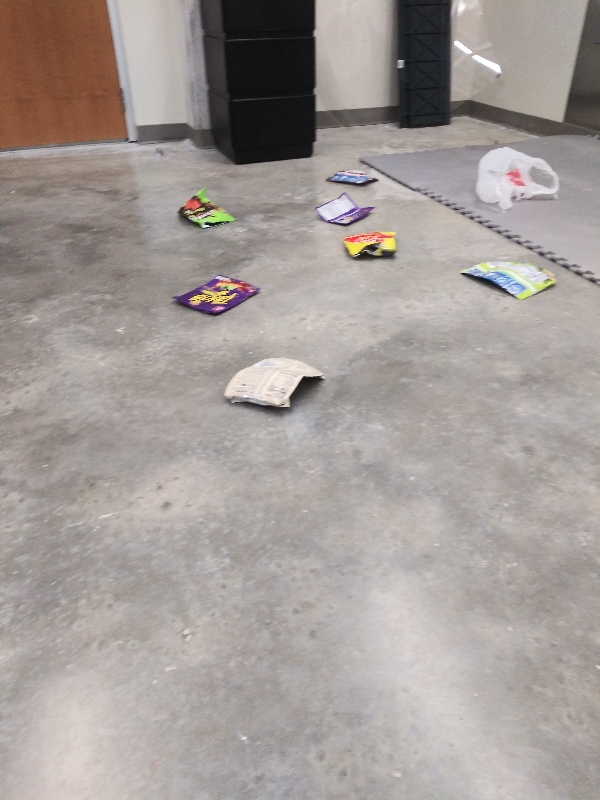bag: (219, 354, 331, 412), (454, 257, 561, 302), (169, 273, 264, 318), (177, 185, 239, 230), (311, 192, 379, 229), (337, 230, 401, 262), (319, 167, 382, 187)
